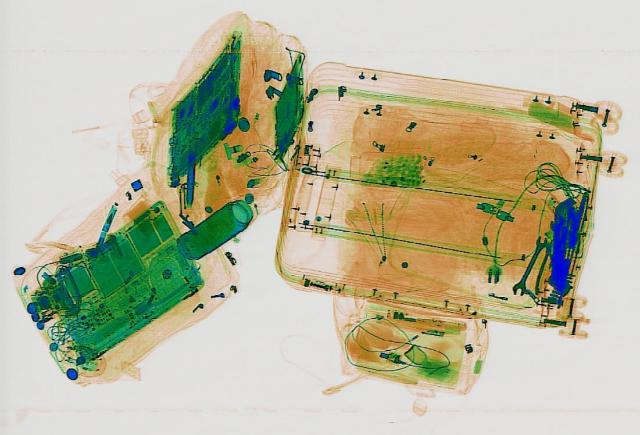Wrench: (509, 233, 551, 295)
